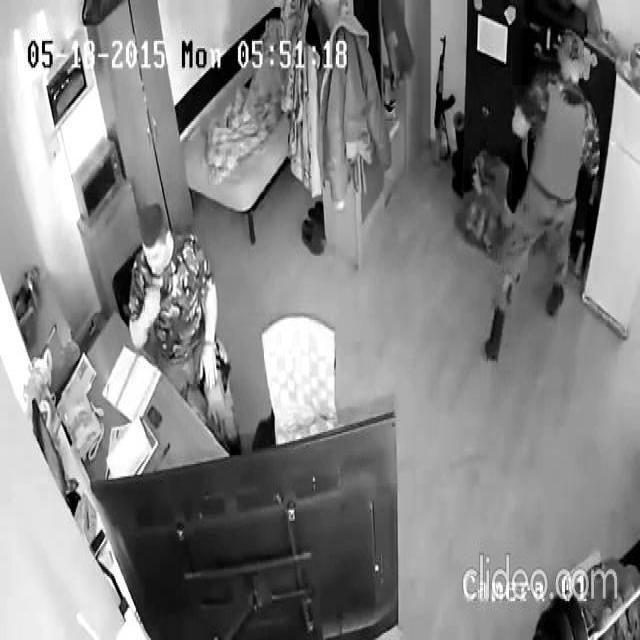pistol: (431, 32, 456, 171)
